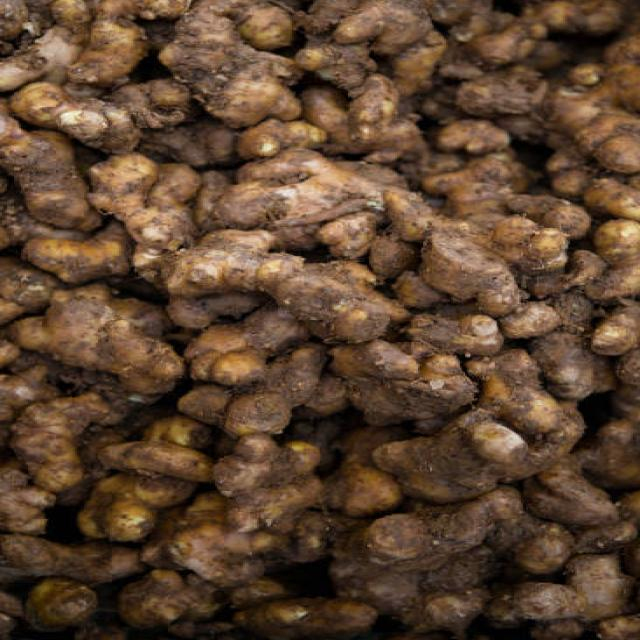paper: (165, 229, 418, 340), (25, 294, 204, 412), (160, 0, 308, 136), (228, 432, 310, 514)
